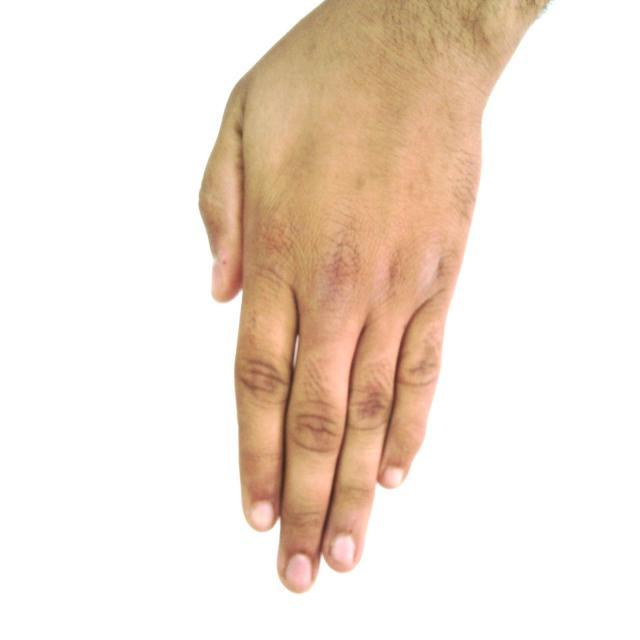Fingernail: (285, 554, 311, 592), (331, 535, 354, 567), (252, 502, 274, 530), (383, 469, 403, 487), (211, 260, 221, 296)
